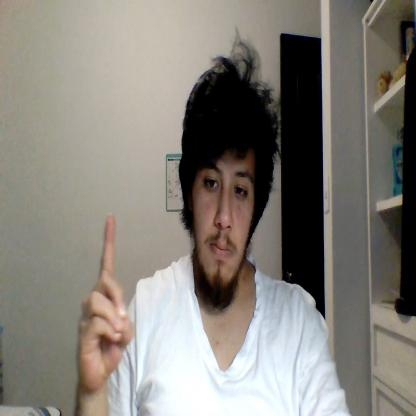D: (75, 215, 134, 389)
